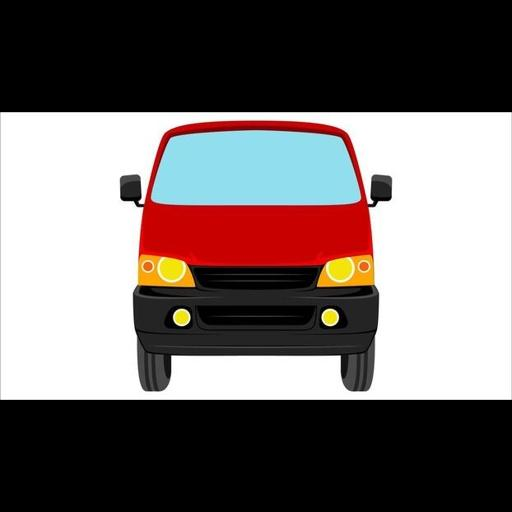car: (370, 176, 390, 204)
van: (121, 121, 377, 390)
